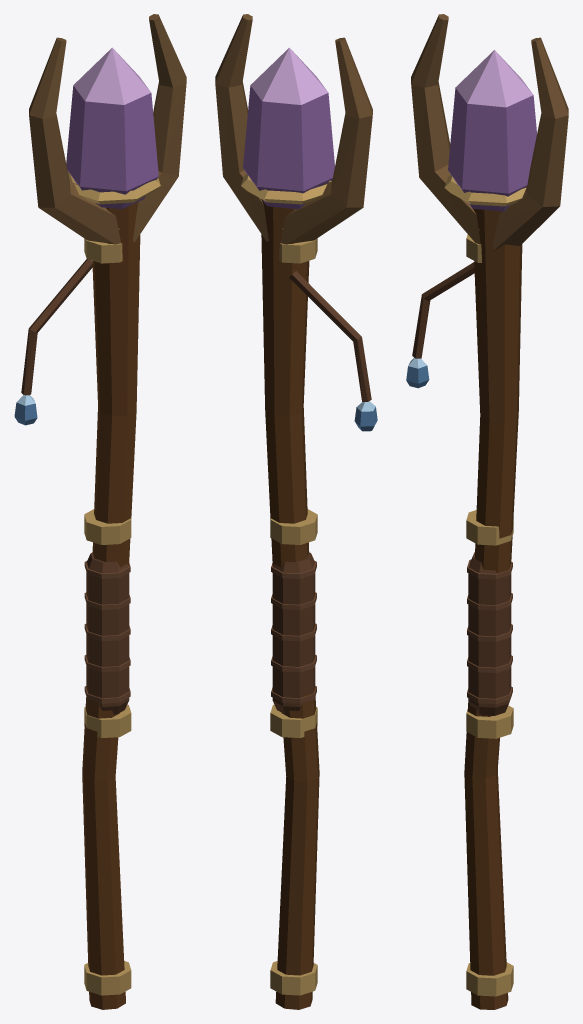
File: weapon_staff_arcane.glb
3 views of the same model, side by side, from view 1: azimuth 30°, elevation 25°; view 2: azimuth 150°, elevation 25°; view 3: azimuth 330°, elevation 25° (orthographic).
Visible parts, largest first — view 1: weapon_staff_arcane; view 2: weapon_staff_arcane; view 3: weapon_staff_arcane.
Part boxes in pixels (x1,y1,x2,y2): weapon_staff_arcane: (14,14,186,1009); weapon_staff_arcane: (215,14,377,1009); weapon_staff_arcane: (406,14,568,1009).
Bounding box in the file's own units: 0.431 × 2.43 × 0.23.
